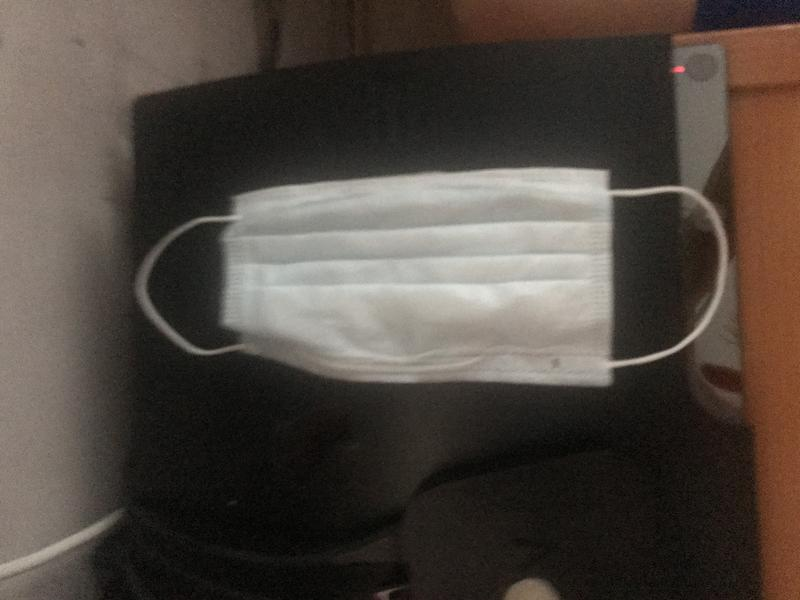medical_mask: (141, 171, 727, 388)
